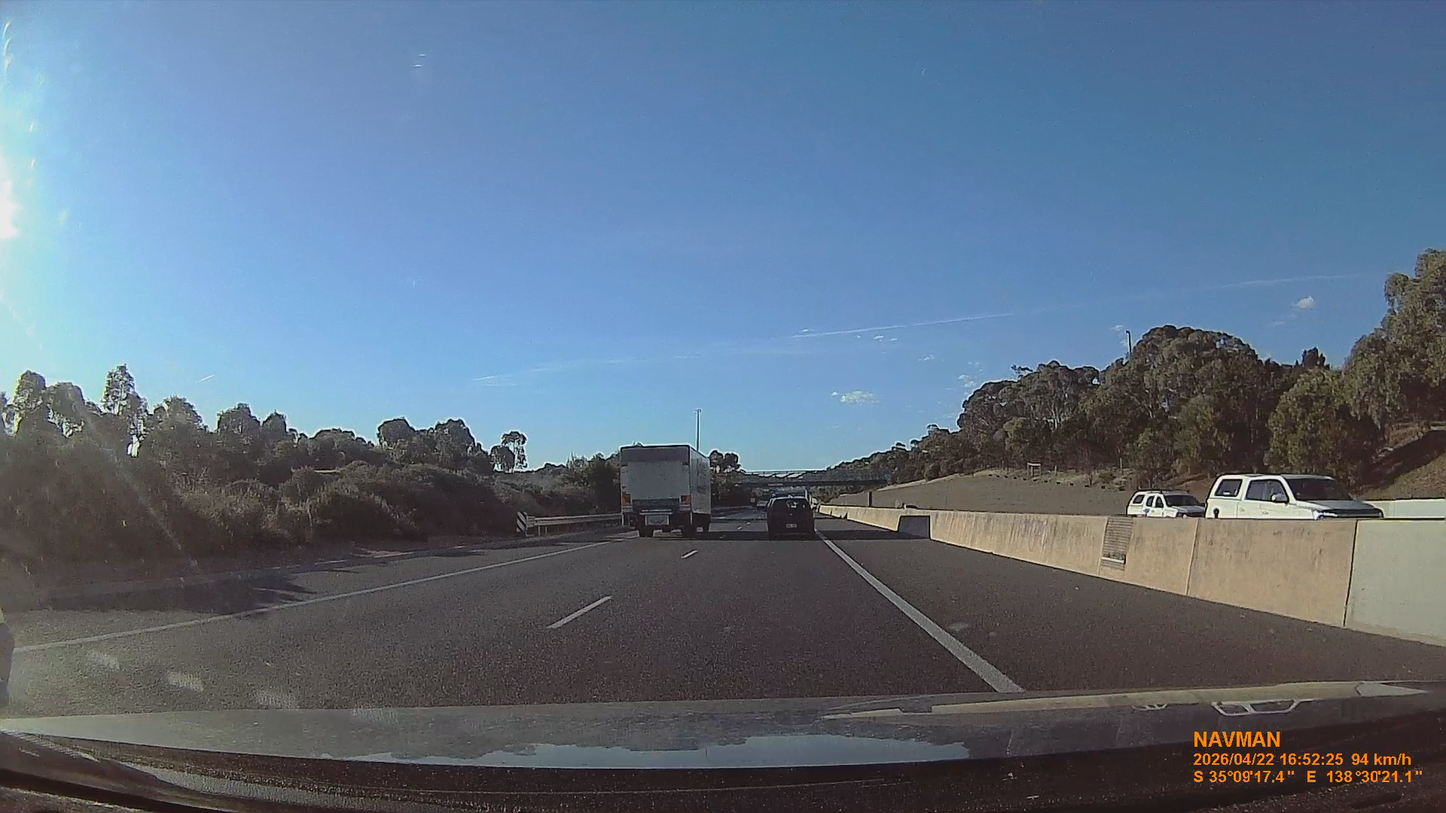road barriers: (822, 500, 1446, 643), (517, 513, 630, 537)
